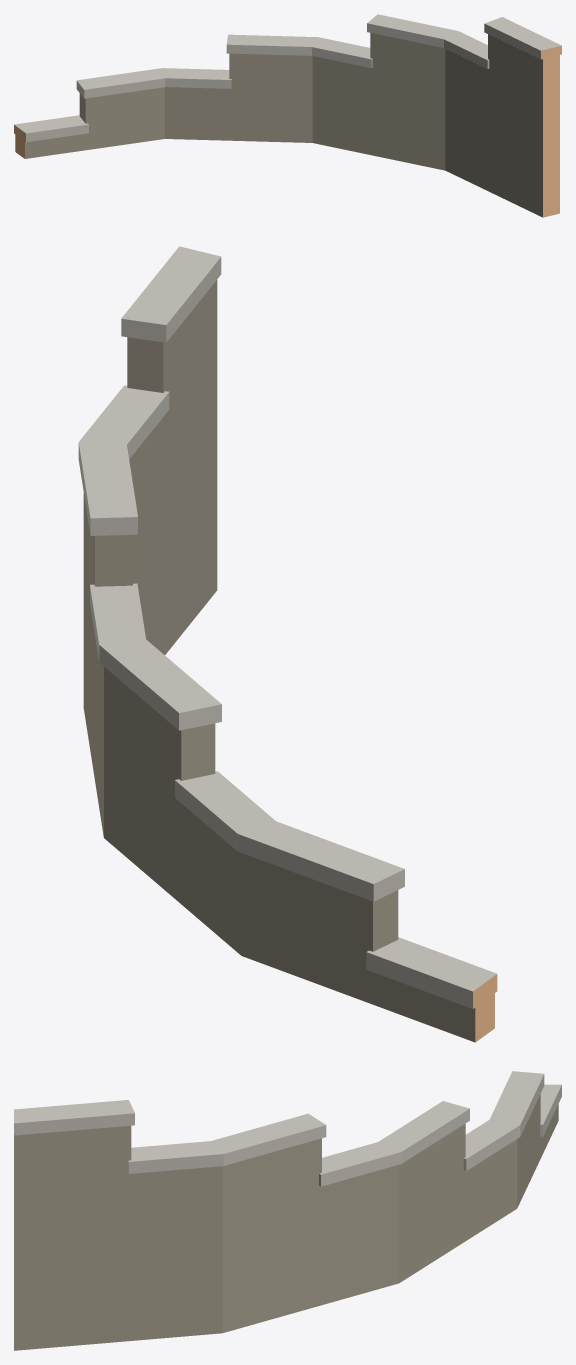
File: Tiered_Retaining_Wall_Stepped_Curve_Tall_5x5.glb
The picture shows the model from 3 angles, top to bottom: view 1: azimuth 30°, elevation 25°; view 2: azimuth 150°, elevation 25°; view 3: azimuth 270°, elevation 25°; orthographic projection. The views are drawn at different scales.
Visible parts, largest first — view 1: Tiered_Retaining_Wall_Stepped_Curve_Tall_5x5; view 2: Tiered_Retaining_Wall_Stepped_Curve_Tall_5x5; view 3: Tiered_Retaining_Wall_Stepped_Curve_Tall_5x5.
Part boxes in pixels (left/top/right/bottom): Tiered_Retaining_Wall_Stepped_Curve_Tall_5x5: left=14, top=14, right=561, bottom=217; Tiered_Retaining_Wall_Stepped_Curve_Tall_5x5: left=78, top=246, right=497, bottom=1042; Tiered_Retaining_Wall_Stepped_Curve_Tall_5x5: left=14, top=1071, right=561, bottom=1350.
Bounding box in the file's own units: 516 × 238 × 516.
